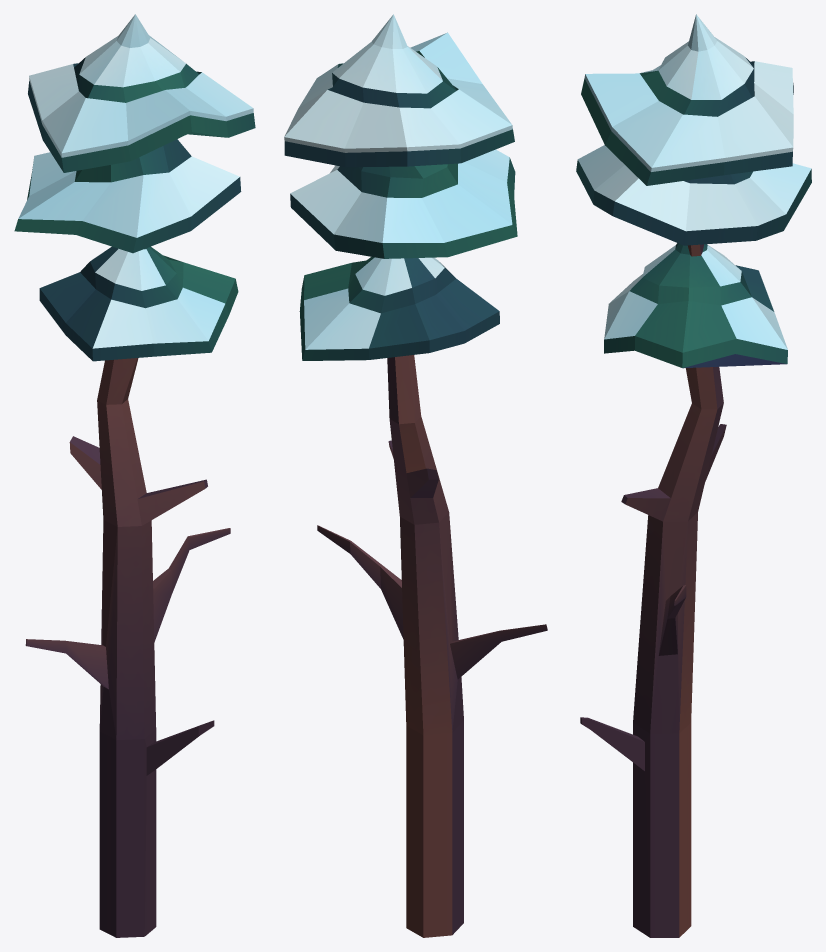
Rendered from PineSnowTree03.fbx.
The picture shows the model from 3 angles, left to right: view 1: azimuth 30°, elevation 25°; view 2: azimuth 150°, elevation 25°; view 3: azimuth 270°, elevation 25°; orthographic projection. The views are drawn at different scales.
Visible parts, largest first — view 1: TolSnowTree2; view 2: TolSnowTree2; view 3: TolSnowTree2.
Part boxes in pixels (box(x1,y1,x2,y2)): TolSnowTree2: box(14, 14, 255, 937); TolSnowTree2: box(284, 14, 547, 937); TolSnowTree2: box(576, 14, 811, 937).
Bounding box in the file's own units: 154 × 584 × 135.
